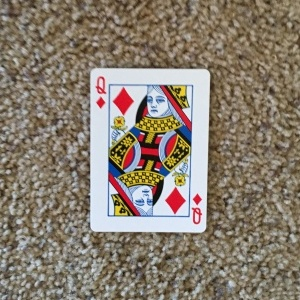card: (89, 67, 211, 233)
